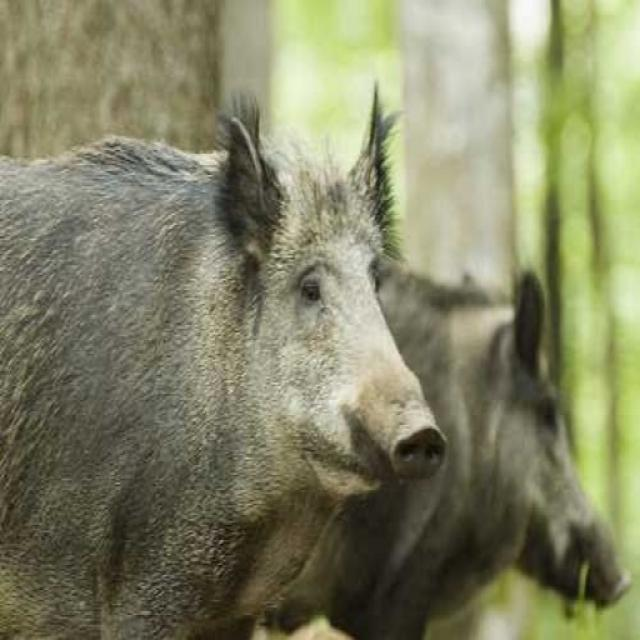pig: (0, 65, 488, 640)
